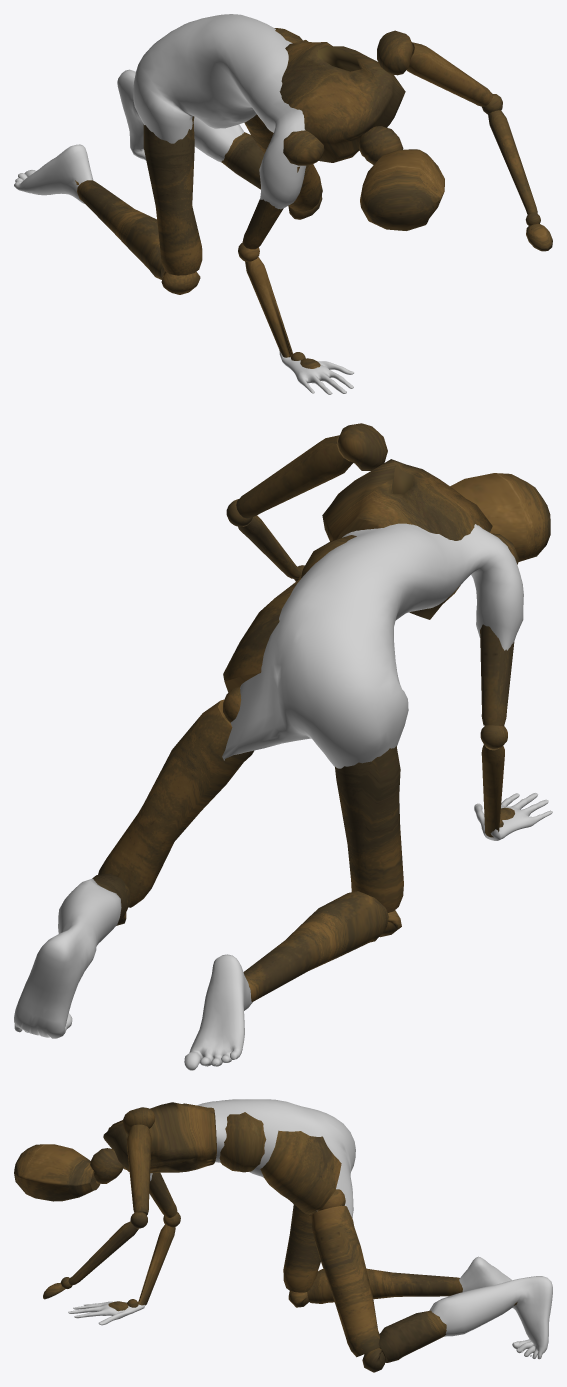
File: enemigo1_pose5.fbx
The picture shows the model from 3 angles, top to bottom: view 1: azimuth 30°, elevation 25°; view 2: azimuth 150°, elevation 25°; view 3: azimuth 270°, elevation 25°; orthographic projection. The views are drawn at different scales.
Parts seen in each view (by area): view 1: dummy_obj.003, Body.004; view 2: dummy_obj.003, Body.004; view 3: dummy_obj.003, Body.004.
Part boxes in pixels (x1=…): dummy_obj.003: x1=75, y1=28, x2=552, y2=368; Body.004: x1=14, y1=14, x2=353, y2=394; dummy_obj.003: x1=92, y1=423, x2=550, y2=1001; Body.004: x1=14, y1=523, x2=552, y2=1070; dummy_obj.003: x1=14, y1=1102, x2=517, y2=1372; Body.004: x1=68, y1=1099, x2=552, y2=1359.
Size of the model in its own units: 56.34 by 66.51 by 133.
